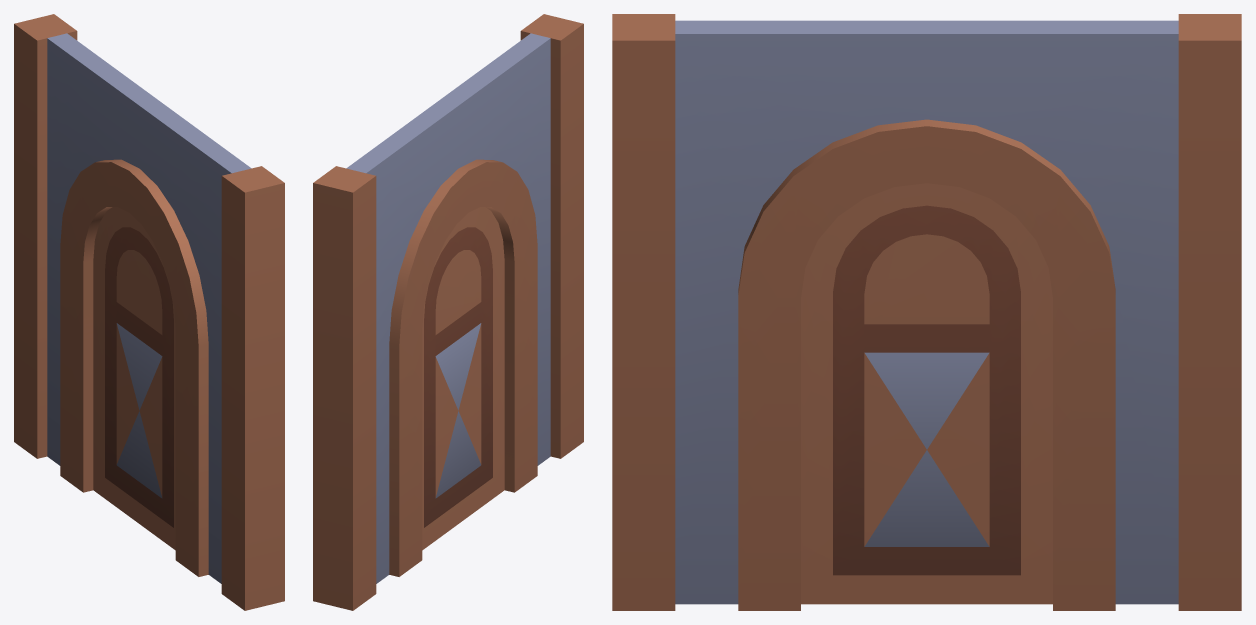
The model's file is wall-door.glb.
3 views of the same model, side by side, from view 1: azimuth 30°, elevation 25°; view 2: azimuth 150°, elevation 25°; view 3: azimuth 270°, elevation 25° (orthographic). The views are drawn at different scales.
Parts seen in each view (by area): view 1: wall-door; view 2: wall-door; view 3: wall-door.
Boxes of the visible parts, <box> form: wall-door: <box>14,14,284,610</box>; wall-door: <box>313,14,583,610</box>; wall-door: <box>612,14,1241,610</box>.
Size of the model in its own units: 0.1 by 1 by 1.
